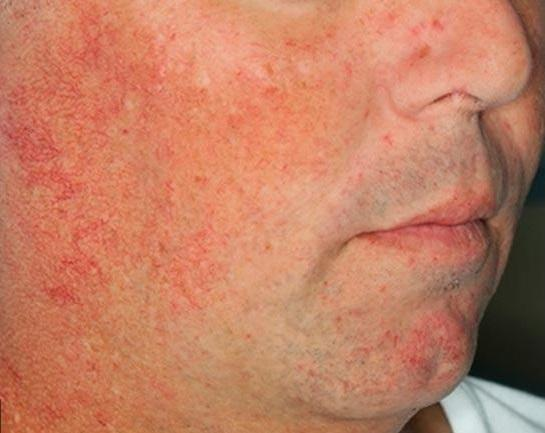Skin-Redness: (0, 19, 349, 324)
